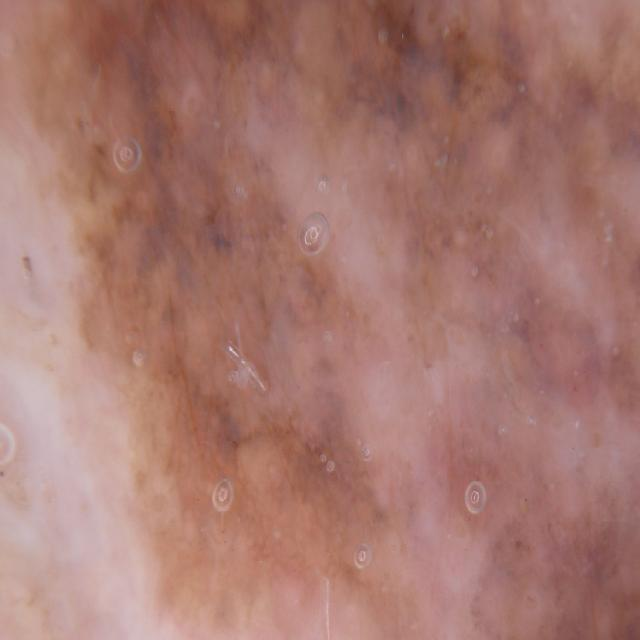Melanoma: (120, 56, 640, 528)
